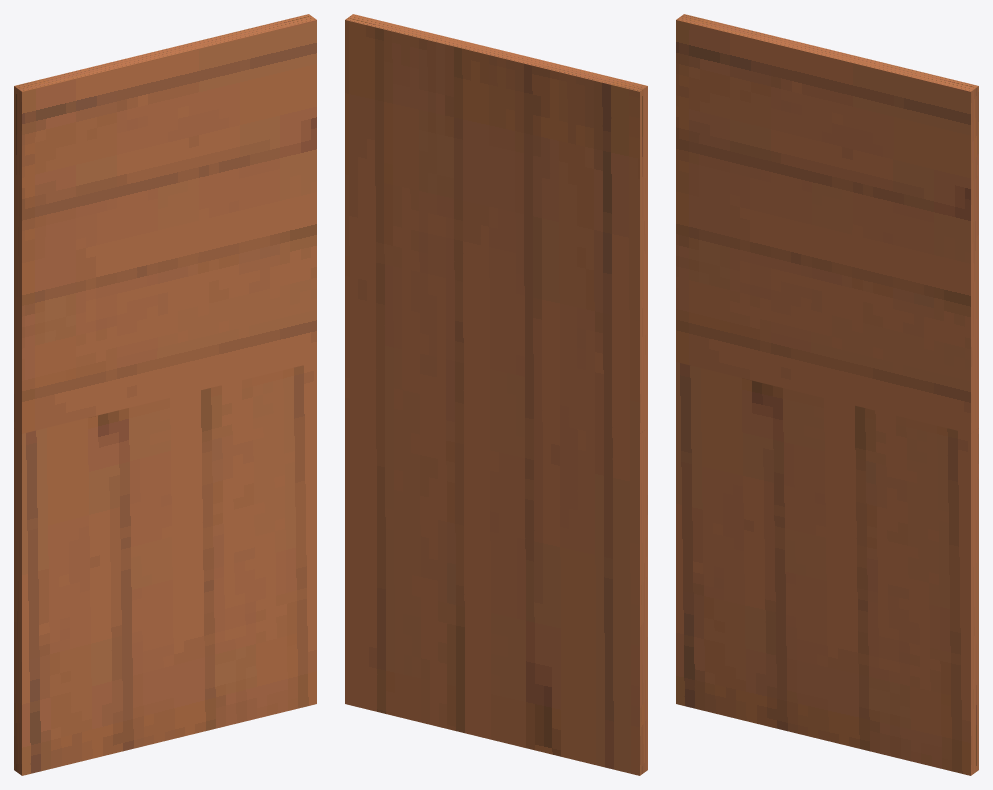
Rendered from 145_rooftile.gltf.
The picture shows the model from 3 angles, left to right: view 1: azimuth 30°, elevation 25°; view 2: azimuth 150°, elevation 25°; view 3: azimuth 330°, elevation 25°; orthographic projection.
Visible parts, largest first — view 1: rooftile; view 2: rooftile; view 3: rooftile.
Boxes of the visible parts, x1,y1,x2,y2 form: rooftile: [14, 14, 316, 775]; rooftile: [345, 14, 647, 775]; rooftile: [676, 14, 978, 775].
Bounding box in the file's own units: 8.41 × 18.63 × 0.3991.
Materials: 1 (1 with a texture image).
